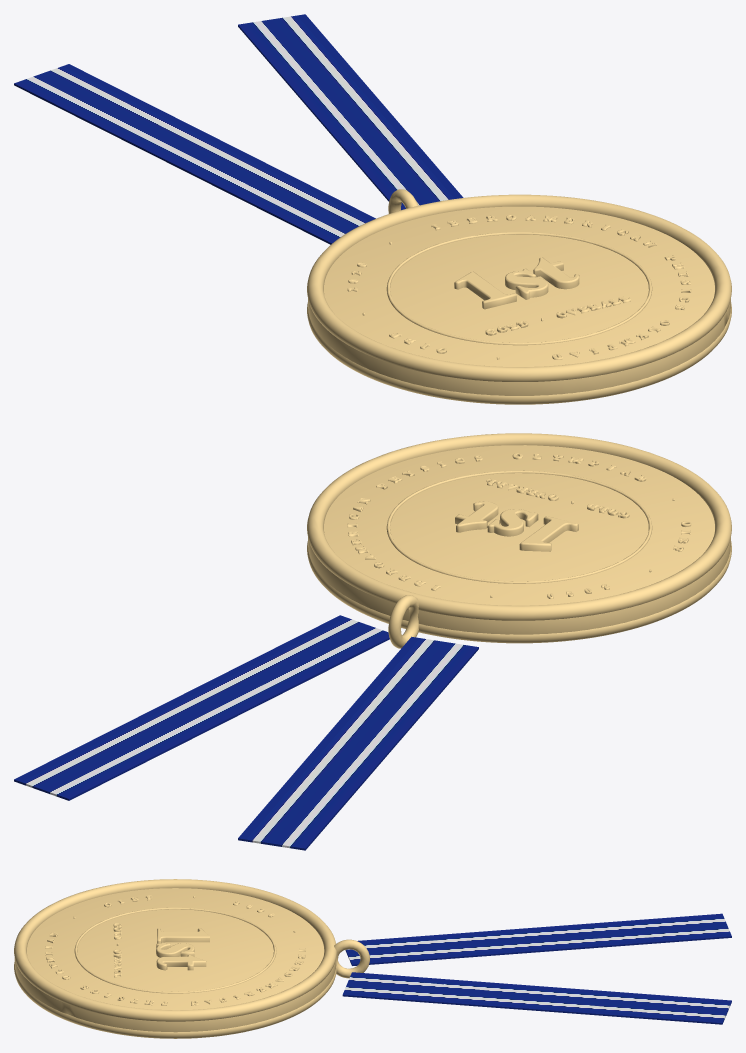
The model's file is medal-gold-en.glb.
The picture shows the model from 3 angles, top to bottom: view 1: azimuth 30°, elevation 25°; view 2: azimuth 150°, elevation 25°; view 3: azimuth 270°, elevation 25°; orthographic projection. The views are drawn at different scales.
Parts seen in each view (by area): view 1: field, ribbon, relief; view 2: field, ribbon, relief; view 3: field, ribbon, relief.
Part boxes in pixels (bbox=[...]): field: bbox=[308, 206, 730, 395]; ribbon: bbox=[14, 14, 463, 244]; relief: bbox=[307, 189, 731, 404]; field: bbox=[308, 445, 730, 634]; ribbon: bbox=[14, 615, 478, 850]; relief: bbox=[307, 433, 731, 648]; field: bbox=[14, 888, 336, 1032]; ribbon: bbox=[342, 913, 731, 1024]; relief: bbox=[14, 879, 369, 1038].
Size of the model in its own units: 2.01 by 0.2598 by 4.47.
3 materials, 1 textured.
